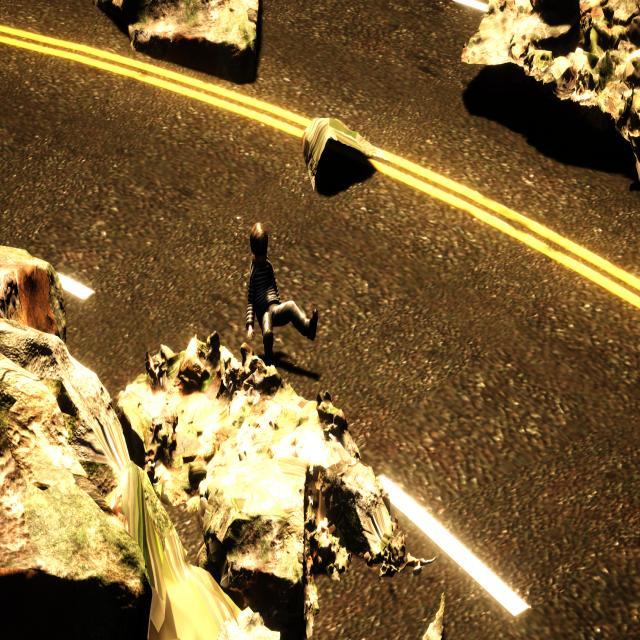Human: (240, 220, 321, 361)
